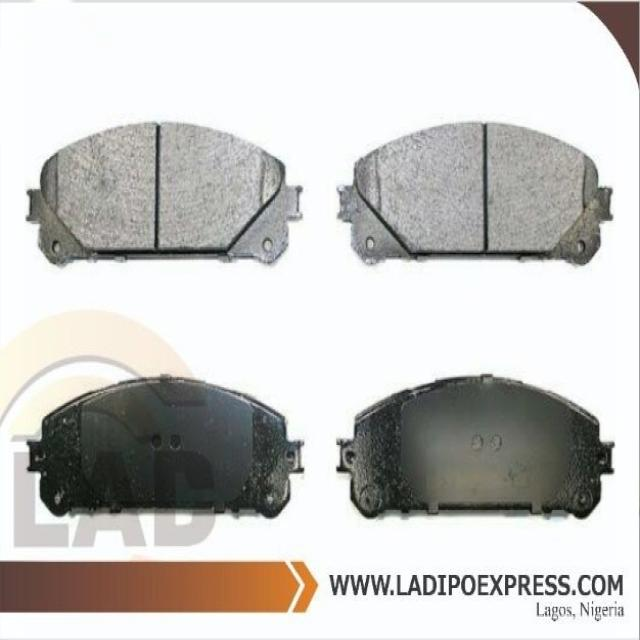brake_pad: (22, 116, 314, 285), (336, 363, 621, 531), (335, 116, 615, 276), (24, 391, 309, 518)
